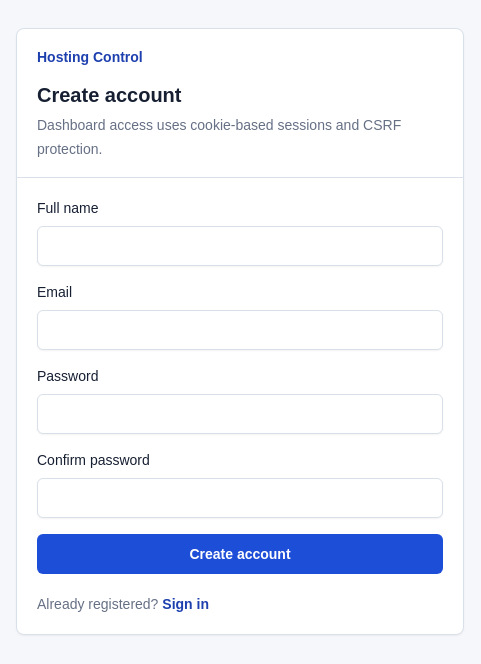
Test: RegisterPage › validates password confirmation
Type "Ada Admin" into the field labelled "Full name" at point(240, 246), box [37,226,443,266]
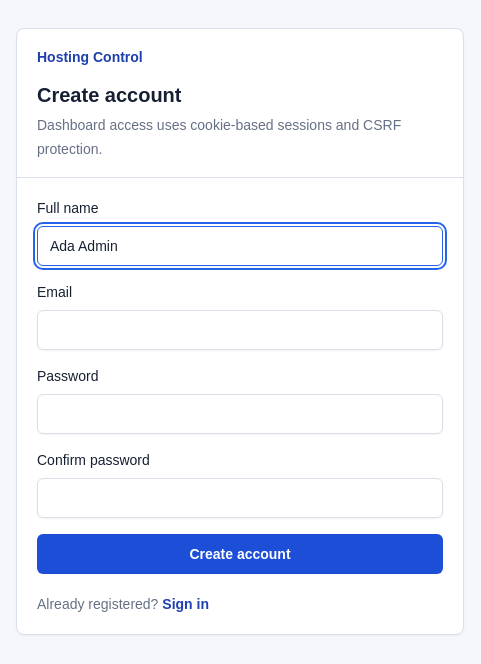
Type "ada@example.com" into the field labelled "Email" at point(240, 330), box [37,310,443,350]
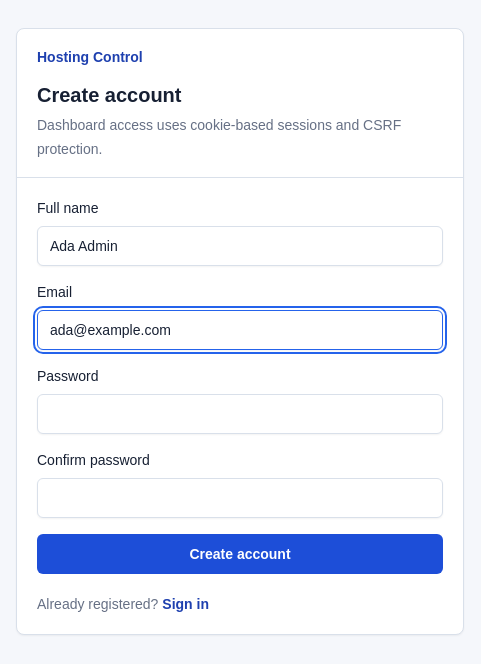
Type "correct-horse-battery" into the password field labelled "Password" at point(240, 414), box [37,394,443,434]
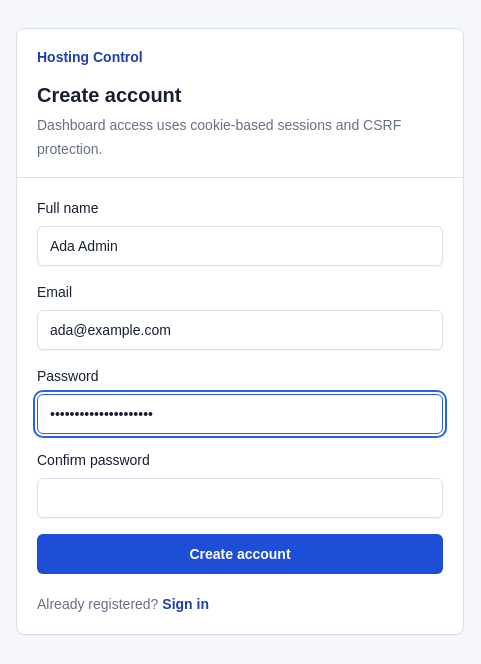
Type "different-password" into the password field labelled "Confirm password" at point(240, 498), box [37,478,443,518]
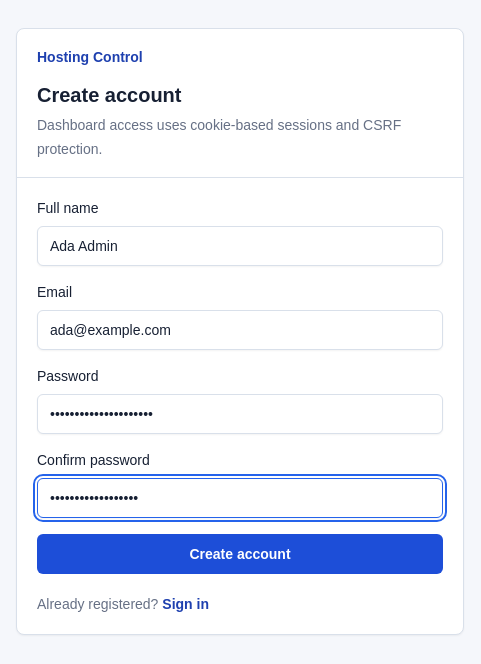
Click the button "Create account" at point(240, 554), box [37,534,443,574]
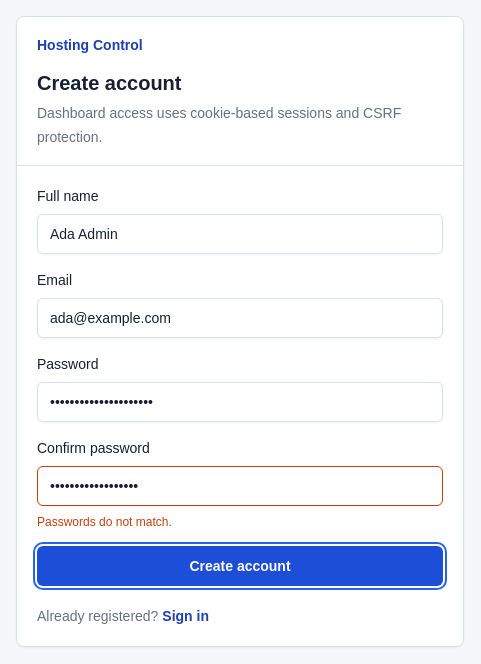
Check: the text "Passwords do not match." is shown, box [37,514,172,528]
